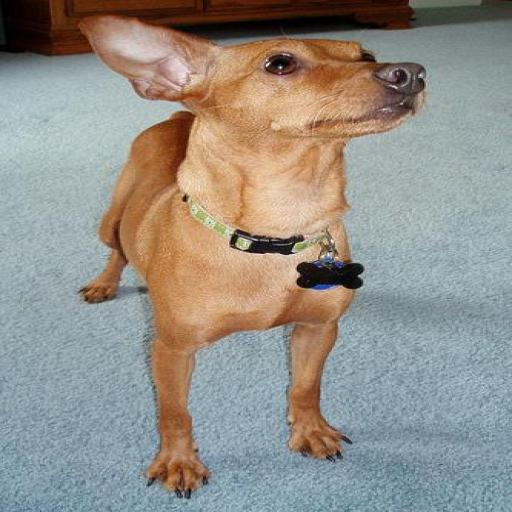dog_face: (61, 11, 454, 164)
